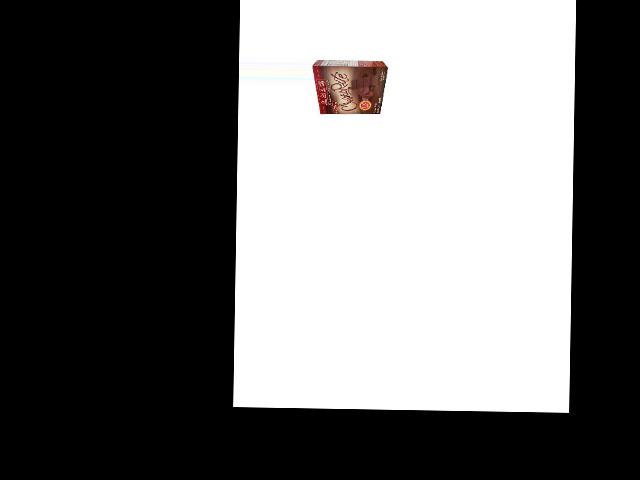chocolate: (313, 60, 388, 116)
